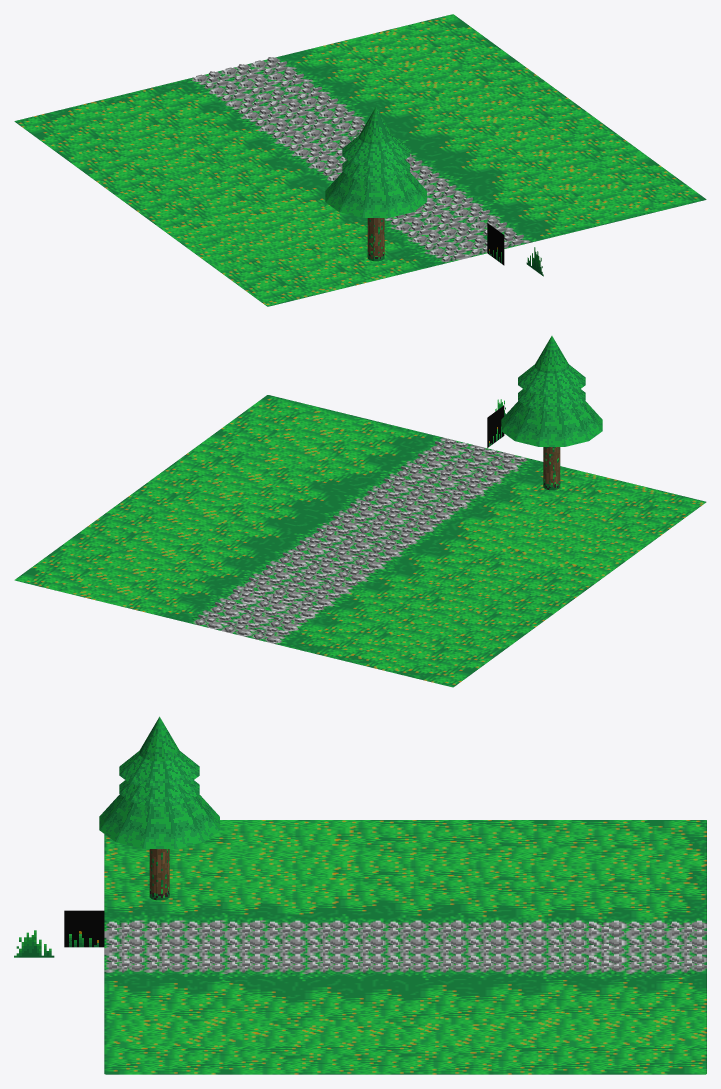
The model's file is Grass_Assets.fbx.
3 renders of one model, top to bottom at view 1: azimuth 30°, elevation 25°; view 2: azimuth 150°, elevation 25°; view 3: azimuth 270°, elevation 25°, orthographic. The views are drawn at different scales.
Visible parts, largest first — view 1: FloorBlockOut, Rocks, Tree, Grass; view 2: FloorBlockOut, Rocks, Tree; view 3: FloorBlockOut, Rocks, Tree, Grass, Bushes.
Boxes of the visible parts, x1,y1,x2,y2 form: FloorBlockOut: [14, 14, 706, 306]; Rocks: [193, 57, 523, 261]; Tree: [325, 106, 426, 261]; Grass: [487, 223, 504, 265]; FloorBlockOut: [14, 395, 706, 687]; Rocks: [195, 438, 525, 642]; Tree: [501, 336, 602, 490]; FloorBlockOut: [104, 820, 706, 1074]; Rocks: [109, 920, 706, 972]; Tree: [99, 716, 219, 900]; Grass: [64, 910, 104, 947]; Bushes: [14, 930, 54, 957].
Bounding box in the file's own units: 1500 × 494 × 1725.
Materials: 5 (5 with a texture image).
